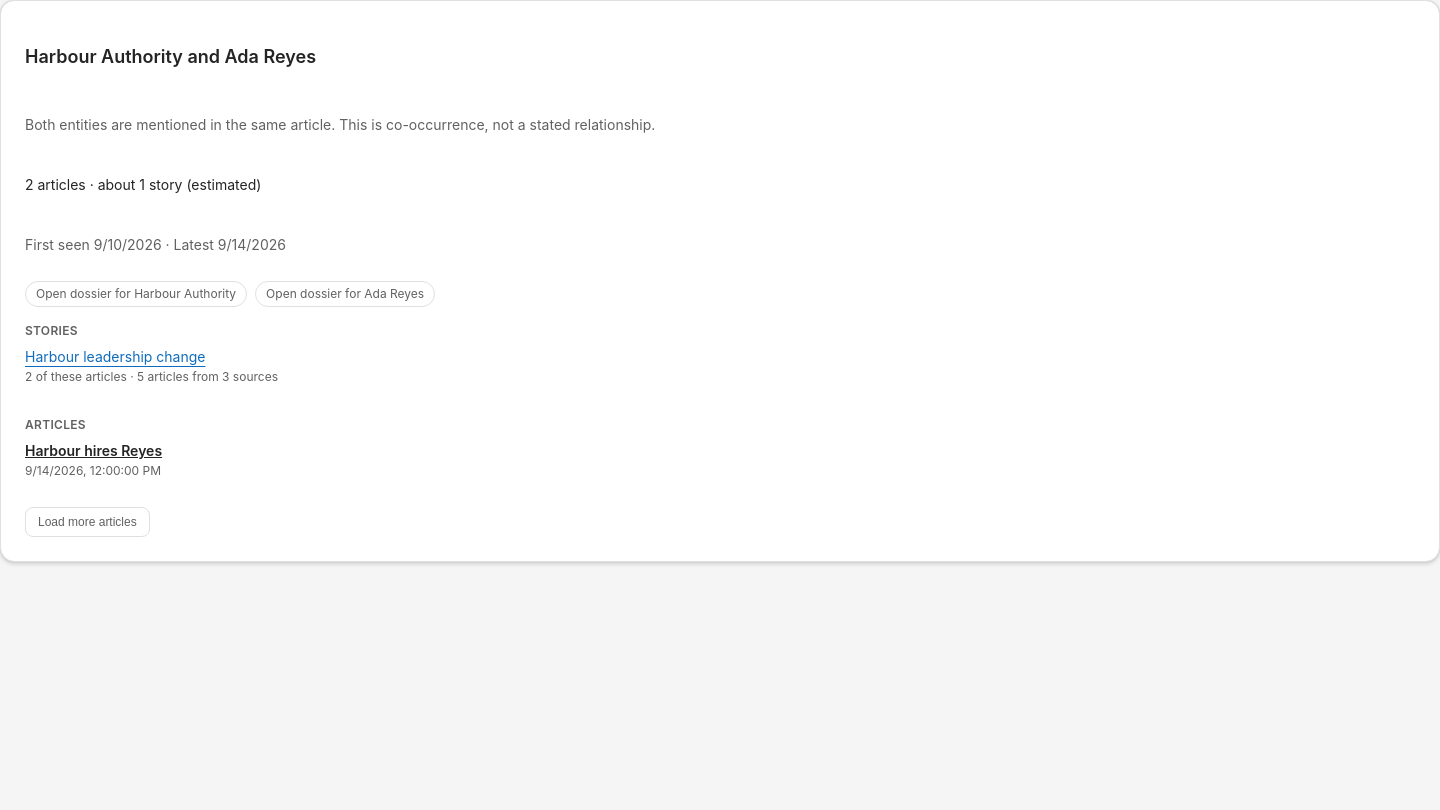
Scenario: loads further evidence pages with the returned cursor
The width and height of the screenshot is (1440, 810).
Click the button "Load more articles". click: [87, 522]
box: [25,507,150,537]
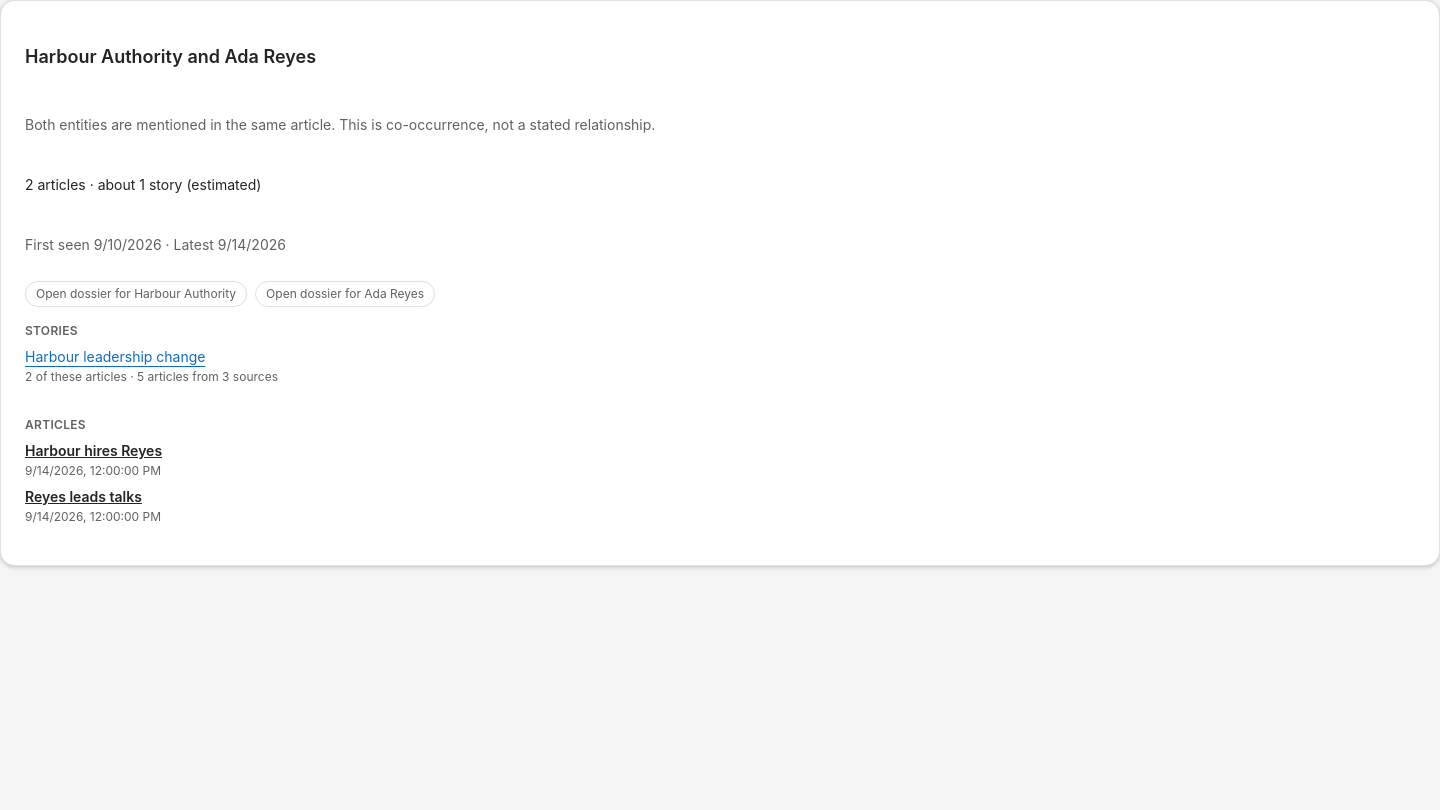
Expected: the link "Harbour hires Reyes" is shown, [25,441,162,461]
Now the link "Reyes leads talks" is shown, box [25,487,142,507]
